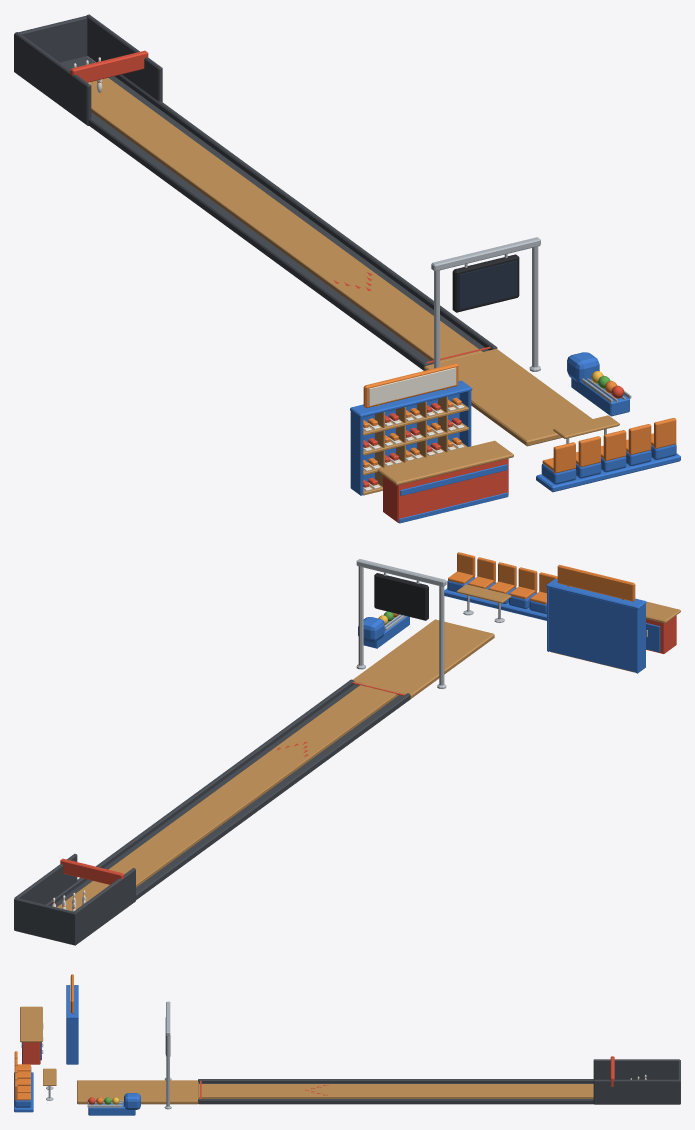
File: bowling-alley-set.glb
3 renders of one model, top to bottom at view 1: azimuth 30°, elevation 25°; view 2: azimuth 150°, elevation 25°; view 3: azimuth 270°, elevation 25°, orthographic. The views are drawn at different scales.
Visible parts, largest first — view 1: Lane_Bed, Lane_Approach, ShoeCounter_Body, Lane_Cap_L, Lane_Cap_R, Lane_Kickback_L, ShoeRack, ShoeCounter_Top, Lane_Gutter_R, Lane_Kickback_R, Screen, Lane_BackWall (+14 smaller); view 2: Lane_Bed, ShoeRack_Back, Lane_Approach, Lane_Cap_L, Lane_Cap_R, Lane_BackWall, Lane_Kickback_L, ScoreScreen_Housing, Lane_Gutter_R, ShoeRack_SignBoard, Lane_Gutter_L, Lane_Kickback_R (+8 smaller); view 3: Lane_Bed, Lane_Approach, Lane_Cap_R, Lane_Kickback_R, Lane_Cap_L, Lane_Kickback_L, ShoeCounter_Top, ShoeRack_Side_R, ShoeCounter_Body, BallReturn_Base, Lane_Gutter_L, ShoeRack_Top (+4 smaller).
Part boxes in pixels (x1,y1,x2,y2): Lane_Bed: (90,78,482,362); Lane_Approach: (424,348,592,446); ShoeCounter_Body: (383,458,508,522); Lane_Cap_L: (88,117,428,370); Lane_Cap_R: (115,74,497,350); Lane_Kickback_L: (14,32,91,125); ShoeRack: (363,396,468,495); ShoeCounter_Top: (377,440,513,485); Lane_Gutter_R: (108,76,488,351); Lane_Kickback_R: (86,14,162,101); Screen: (459,260,517,309); Lane_BackWall: (14,16,87,72); Lane_Bed: (57,683,398,910); ShoeRack_Back: (549,588,635,672); Lane_Approach: (353,619,494,698); Lane_Cap_L: (136,693,410,899); Lane_Cap_R: (46,679,354,905); Lane_BackWall: (14,898,77,945); Lane_Kickback_L: (73,868,135,943); ScoreScreen_Housing: (374,573,428,620); Lane_Gutter_R: (55,684,358,907); ShoeRack_SignBoard: (557,564,635,601); Lane_Gutter_L: (136,695,402,891); Lane_Kickback_R: (14,853,77,904); Lane_Bed: (198,1084,593,1098); Lane_Approach: (77,1080,198,1104); Lane_Cap_R: (198,1099,593,1104); Lane_Kickback_R: (593,1079,680,1104); Lane_Cap_L: (198,1079,593,1083); Lane_Kickback_L: (593,1059,680,1079); ShoeCounter_Top: (20,1006,42,1042); ShoeRack_Side_R: (66,1018,78,1064); ShoeCounter_Body: (22,1042,40,1064); BallReturn_Base: (88,1102,135,1115); Lane_Gutter_L: (198,1083,593,1083); ShoeRack_Top: (66,985,78,1018).
Size of the model in its own units: 26.35 by 11.2 by 87.8.
